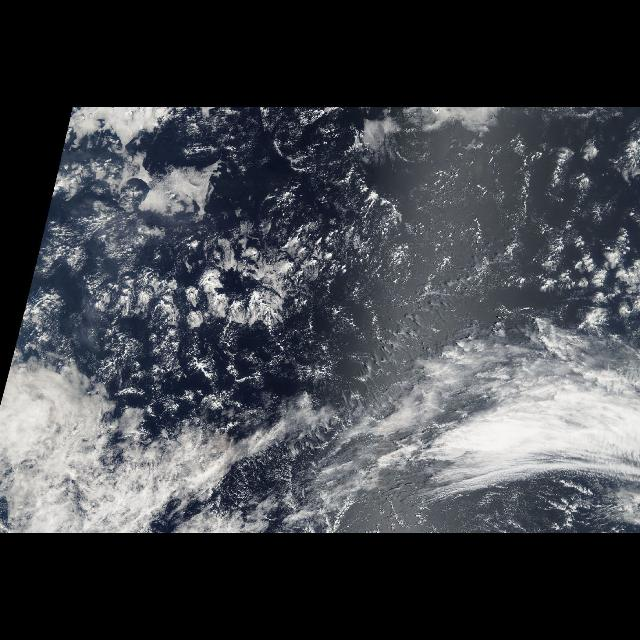Flower: (99, 242, 335, 396), (486, 208, 638, 354)
Gravel: (282, 138, 610, 330), (58, 206, 205, 392)
